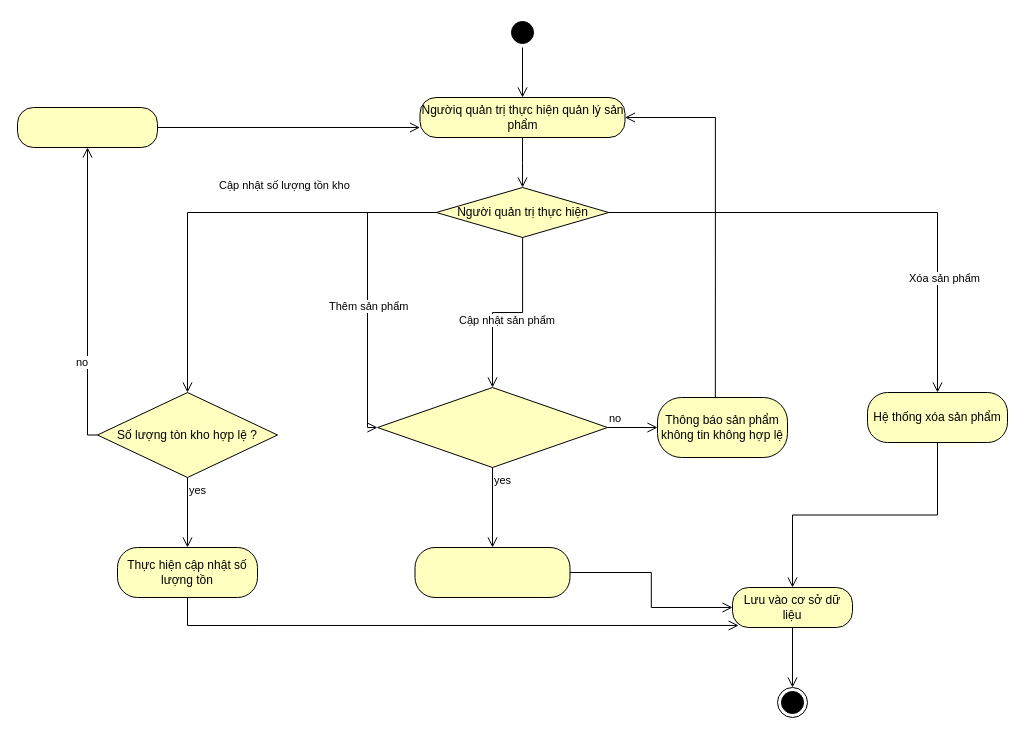
Some shapes in this 1025 by 735 pixel diagram are drawn without their labels. Each missing label, with the box of its shape:
Thông báo số lượng tồn kho không hợp lệ: (16, 106, 158, 148)
Thông tin sản phẩm có hợp lệ không ?: (376, 386, 608, 468)
Thực hiện thêm hoặc cập nhật sản phẩm: (414, 546, 570, 598)
